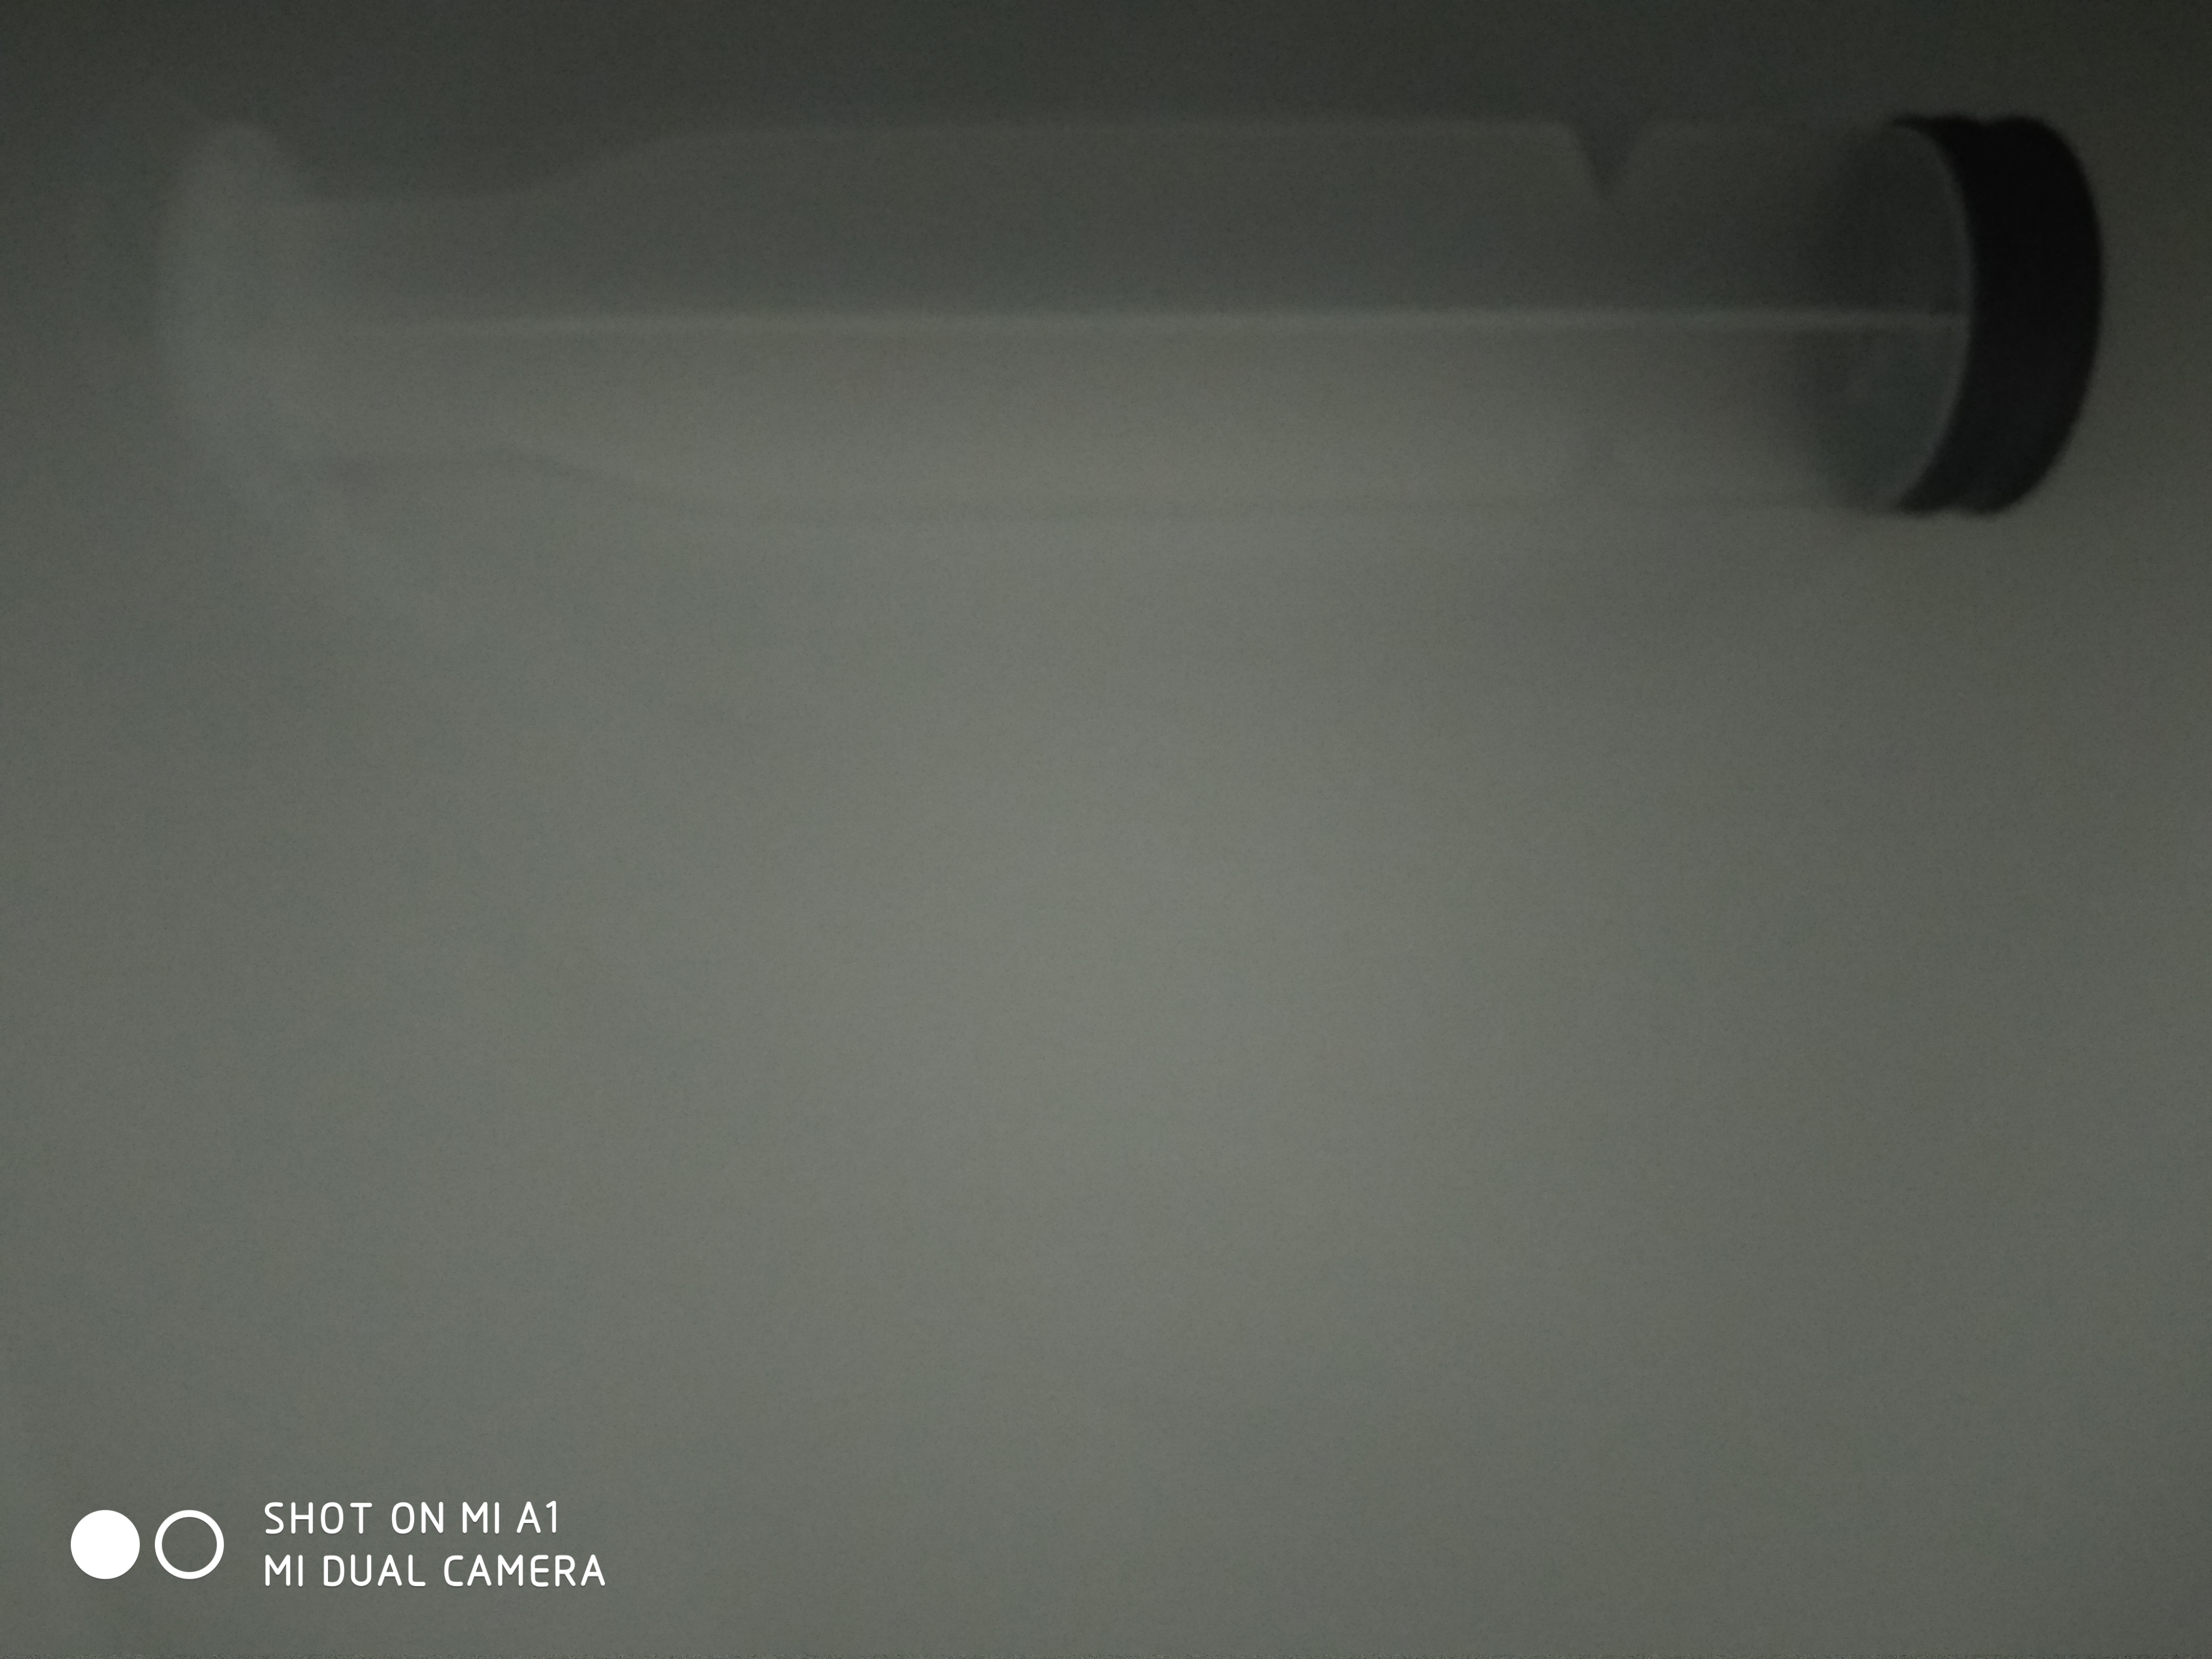plunger: (141, 108, 2113, 537)
